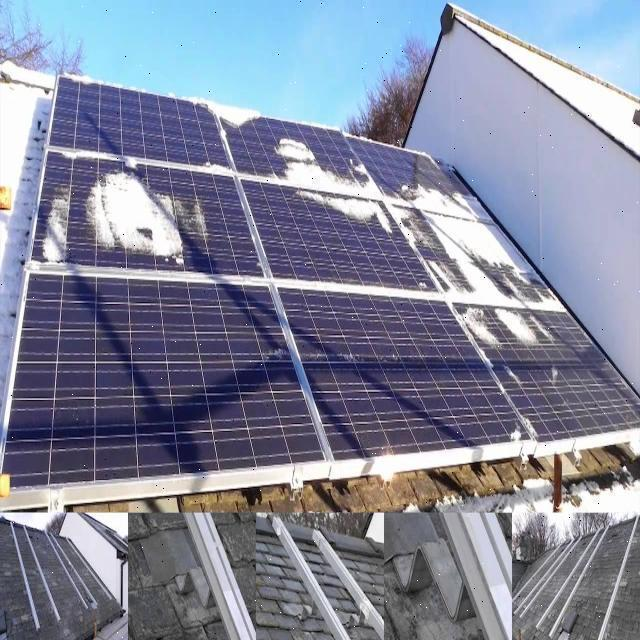Anomaly Solar Panel: (29, 147, 271, 281), (451, 303, 640, 445), (239, 177, 442, 296), (48, 72, 234, 174), (389, 208, 565, 310), (213, 103, 383, 199), (346, 133, 496, 224)
Normal Solar Panel: (2, 271, 327, 491), (274, 283, 531, 460)
Snow: (366, 145, 567, 361), (206, 120, 393, 211), (60, 74, 258, 129), (88, 167, 180, 256), (292, 173, 400, 235), (37, 191, 76, 262), (489, 303, 543, 345), (458, 302, 496, 351)
